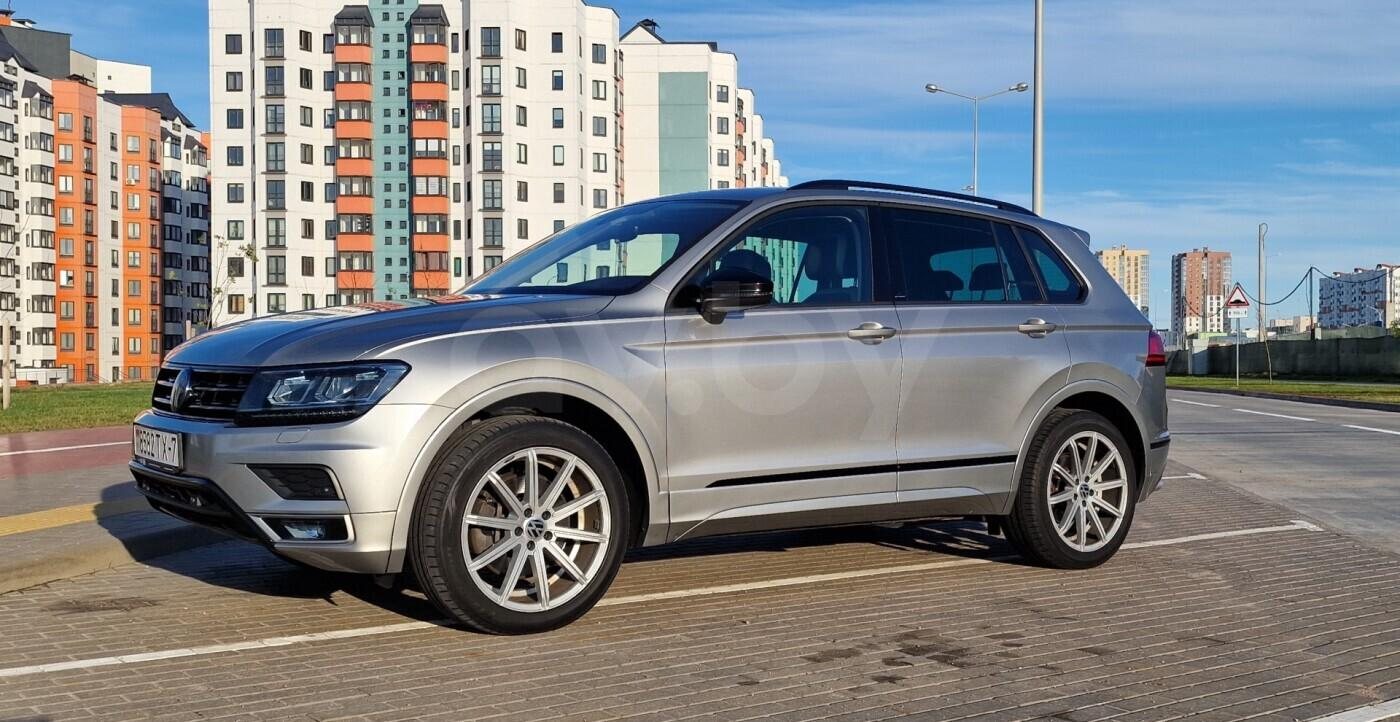Tiguan_2016-2021: (125, 175, 1174, 645)
